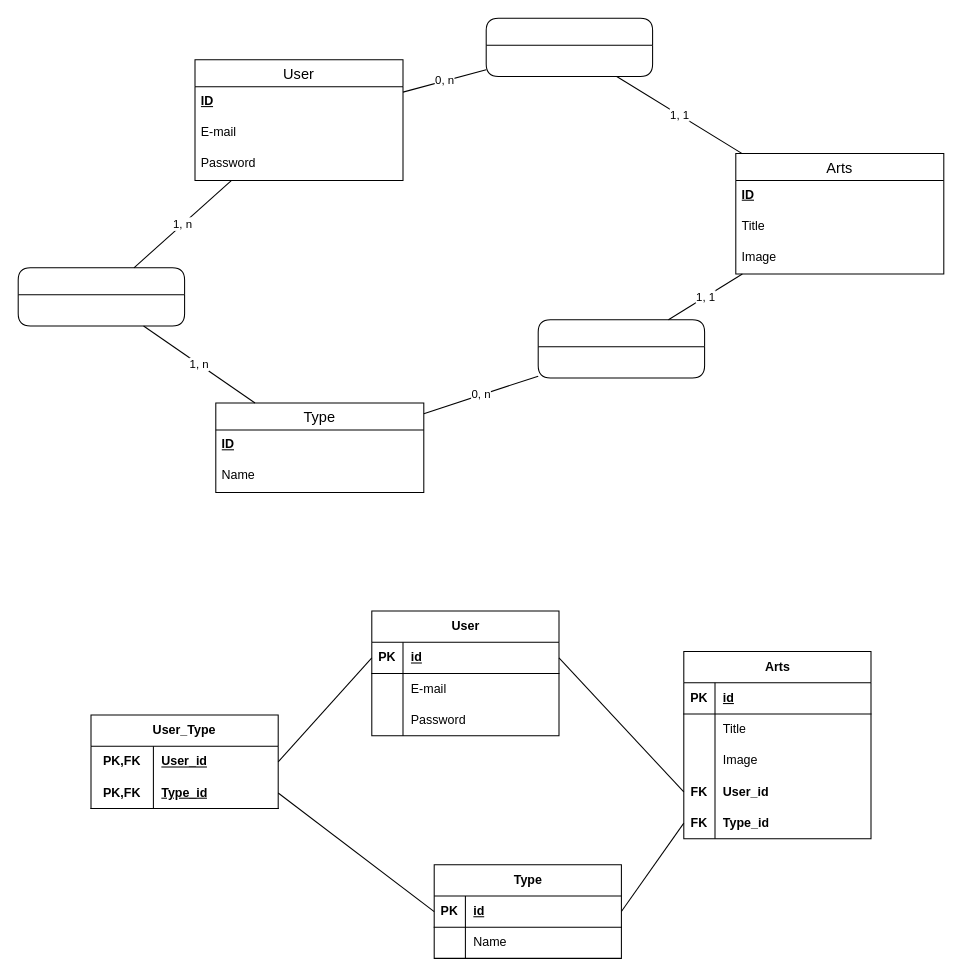
Image size: 962x977. Some labels were removed from this diagram. Here are the shapes that lost their labels. From the top down, the centre of each, then its label:
point 569,46: Create
point 101,296: Choose
point 621,348: Has
